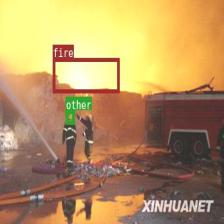fire: (53, 57, 119, 92)
